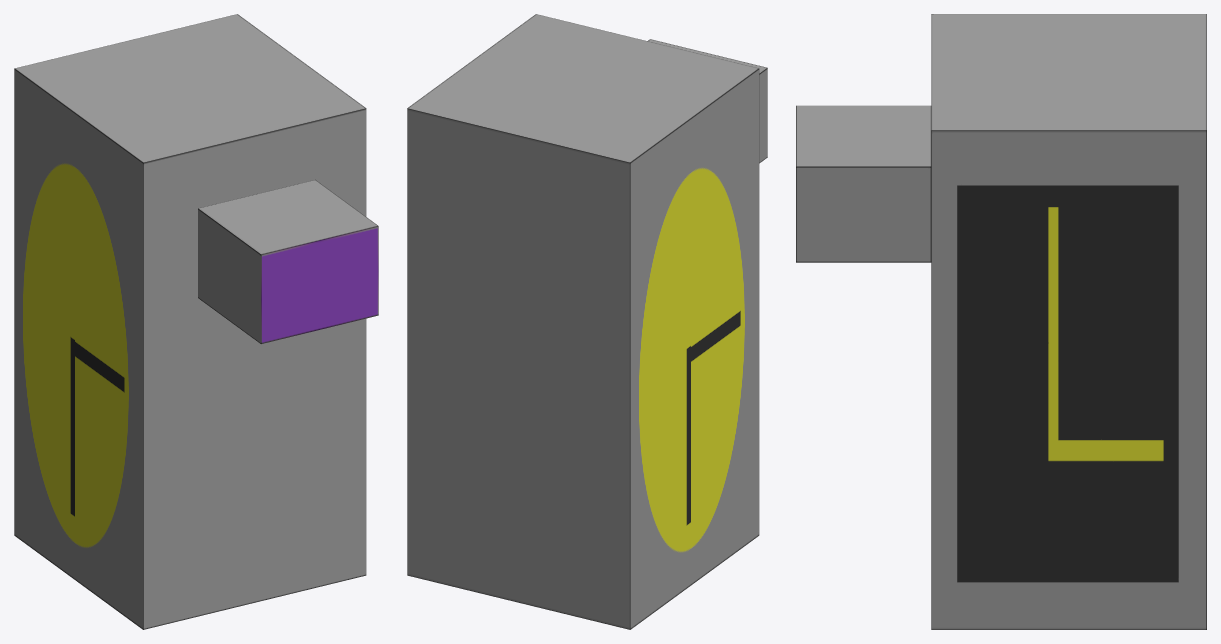
The model's file is Enemy.obj.
3 views of the same model, side by side, from view 1: azimuth 30°, elevation 25°; view 2: azimuth 150°, elevation 25°; view 3: azimuth 270°, elevation 25° (orthographic). The views are drawn at different scales.
Visible parts, largest first — view 1: Cube; view 2: Cube; view 3: Cube.
Boxes of the visible parts, <box> form: Cube: <box>14,14,378,629</box>; Cube: <box>407,14,767,629</box>; Cube: <box>796,14,1206,629</box>.
Bounding box in the file's own units: 2 × 4 × 2.98.
1 material, 1 textured.
